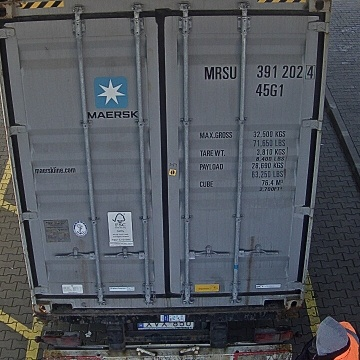serial_id: (202, 65, 314, 80)
